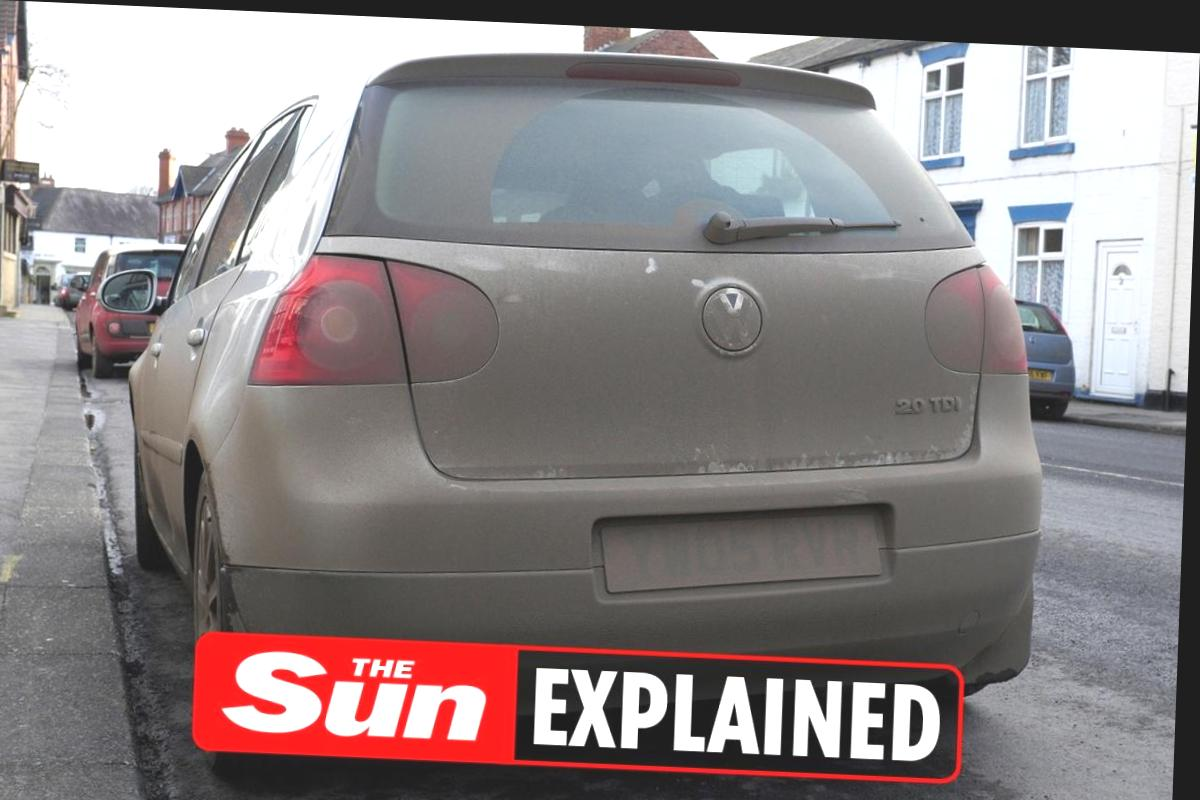License_Plate: (578, 482, 924, 619)
